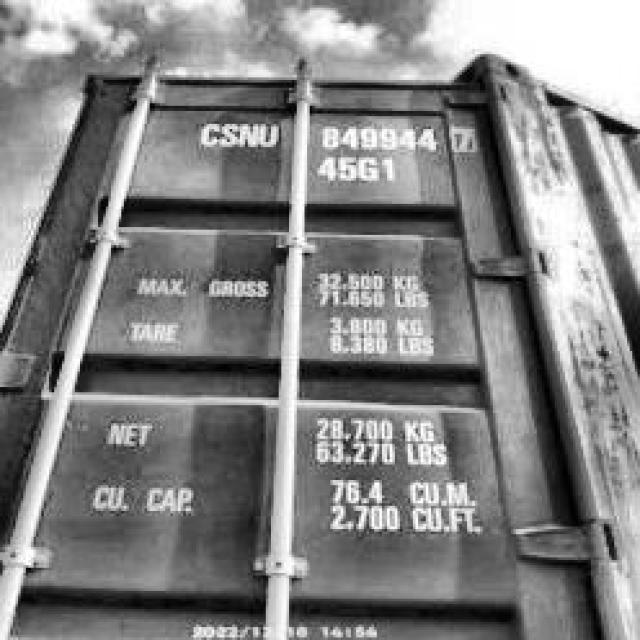ISO: (318, 156, 398, 186)
container_number: (187, 124, 472, 147)
